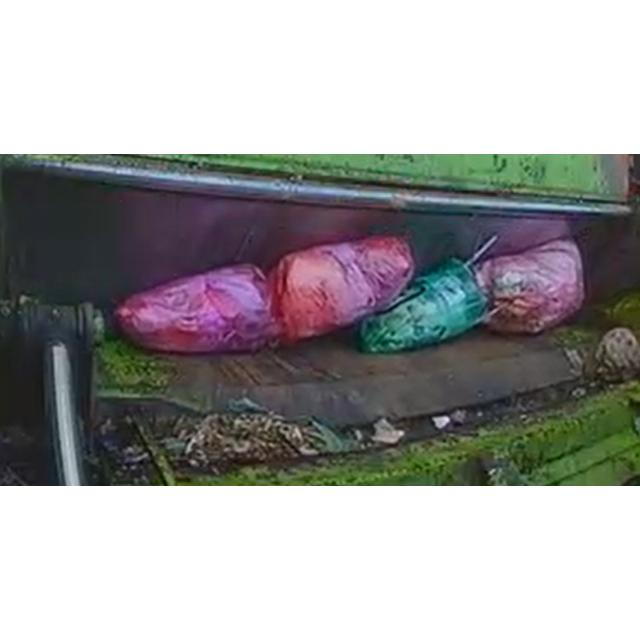general_trashbag: (359, 258, 488, 353)
other_trashbag: (269, 236, 414, 341), (114, 264, 280, 353), (476, 240, 585, 334)
